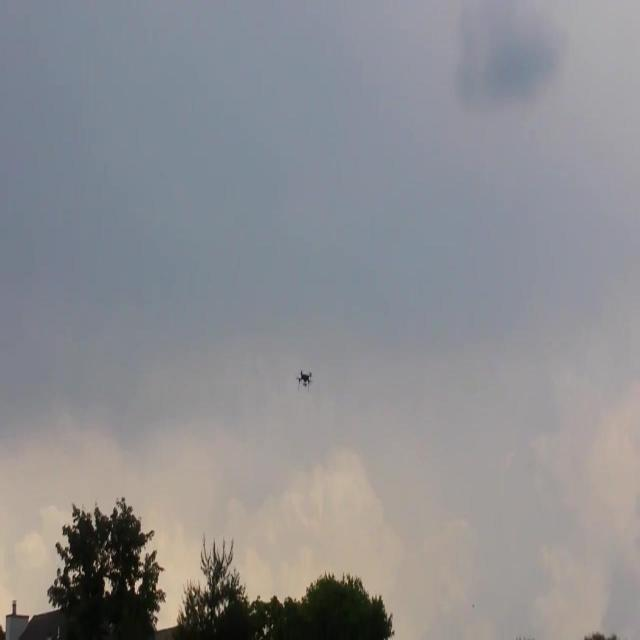UAV: (296, 370, 312, 393)
